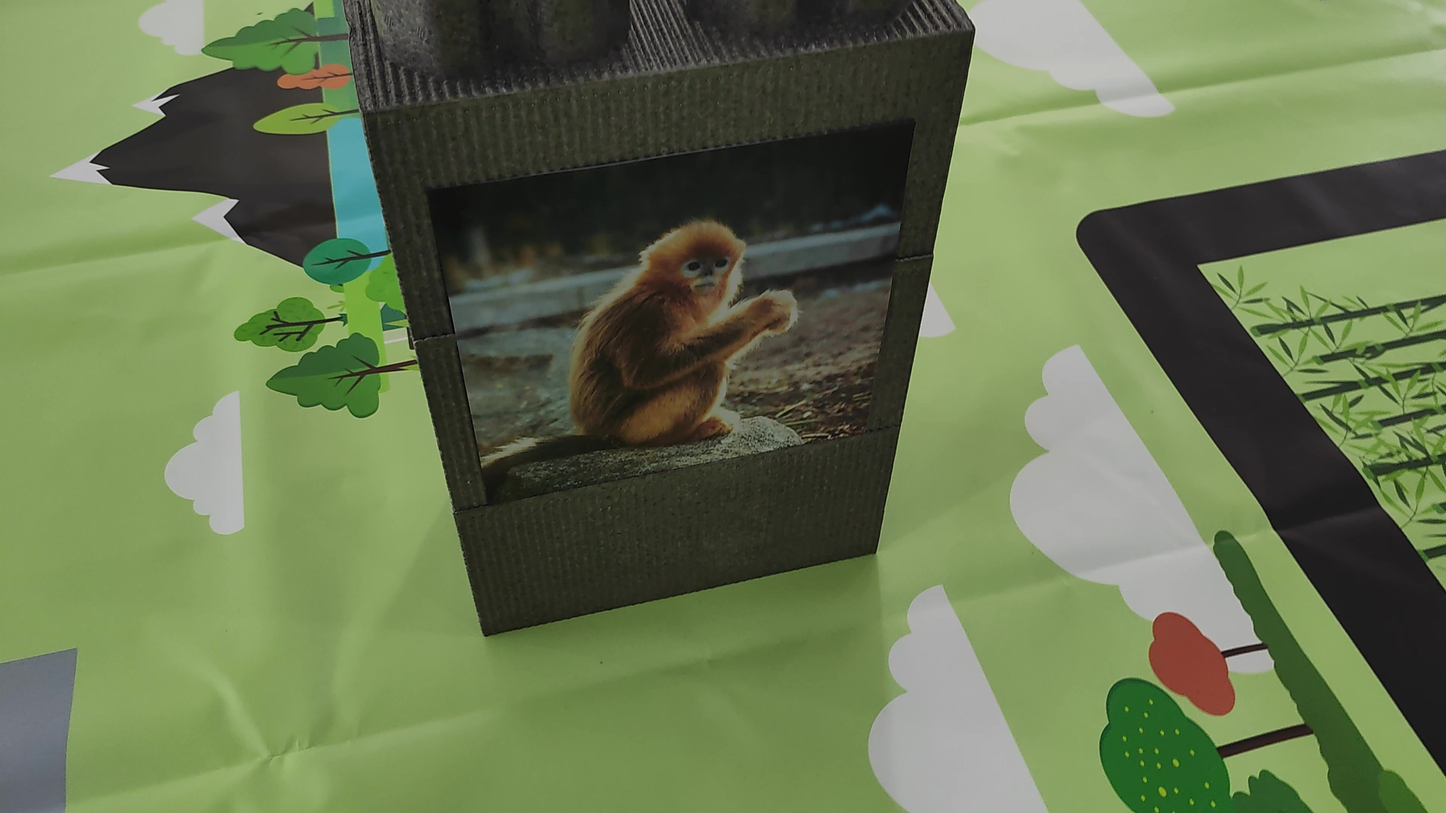monkey: (539, 195, 829, 490)
